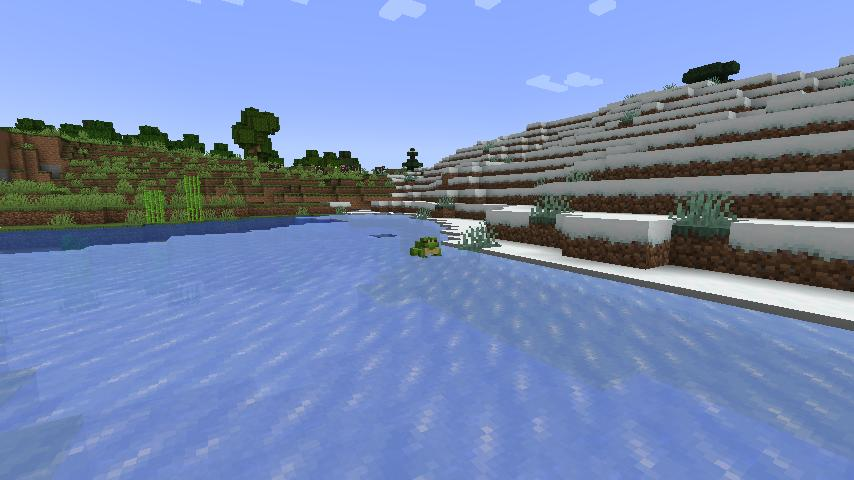frog: (408, 233, 445, 262)
